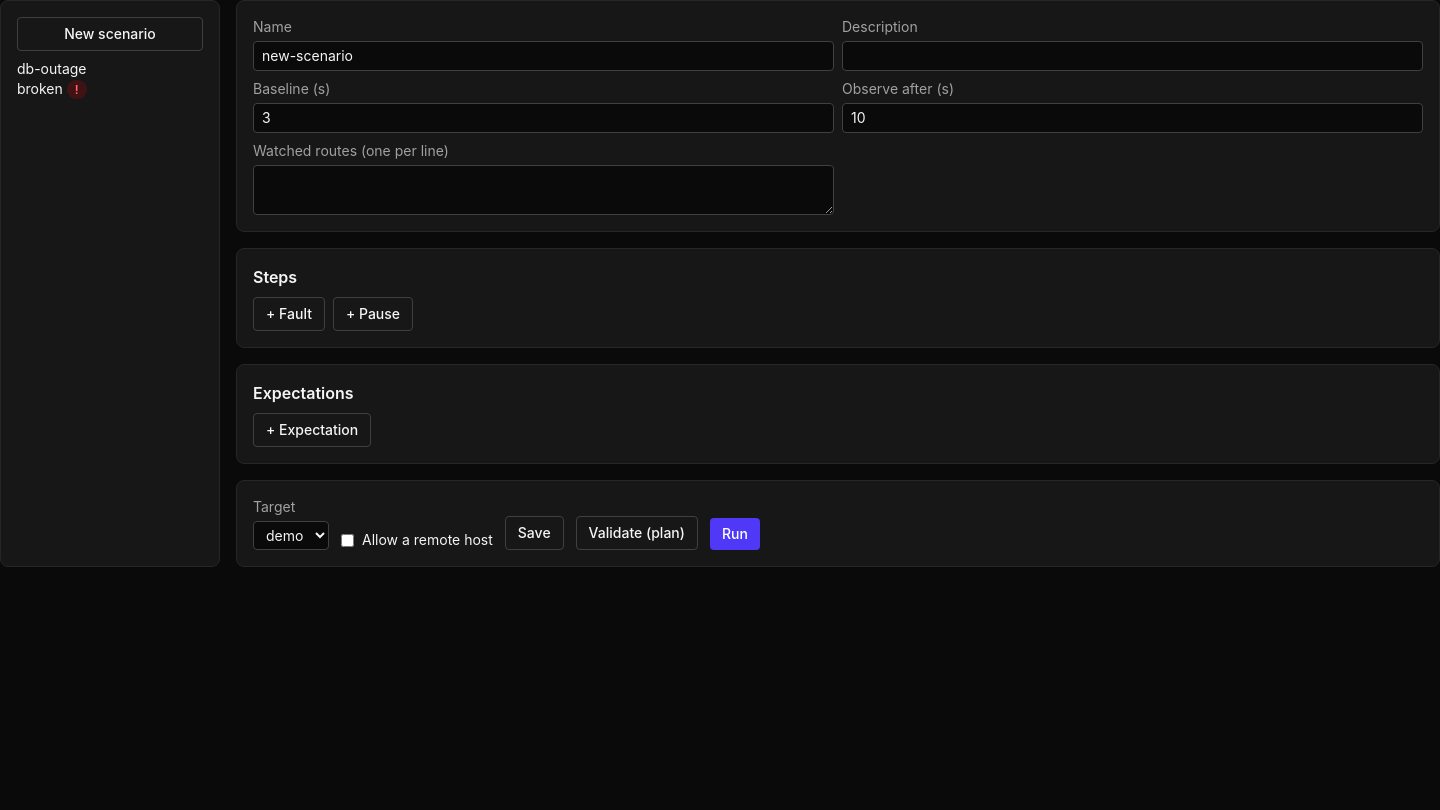
Test: ScenarioEditor › loads saved scenarios and shows guard refusals from the server
The width and height of the screenshot is (1440, 810).
Click the button "db-outage" at point(52, 69), box [17, 59, 86, 79]
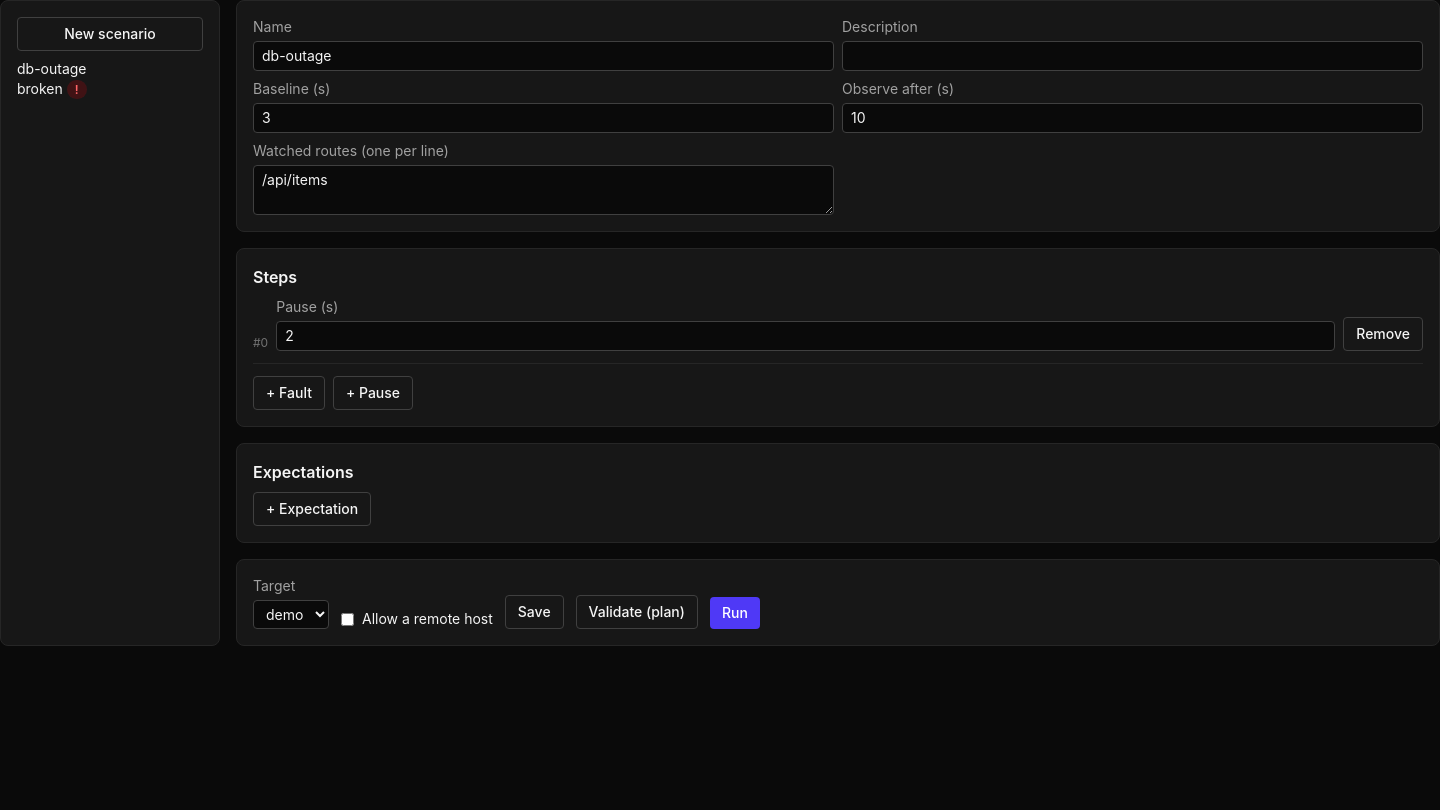
expect the button "broken !" is disabled: met, box [17, 79, 87, 99]
expect the field labelled "Name" holds "db-outage": met, box [253, 41, 834, 71]
expect the number field labelled "Pause (s)" holds "2": met, box [276, 321, 1335, 351]
Click the button "Run" at point(735, 613), box [710, 597, 760, 629]
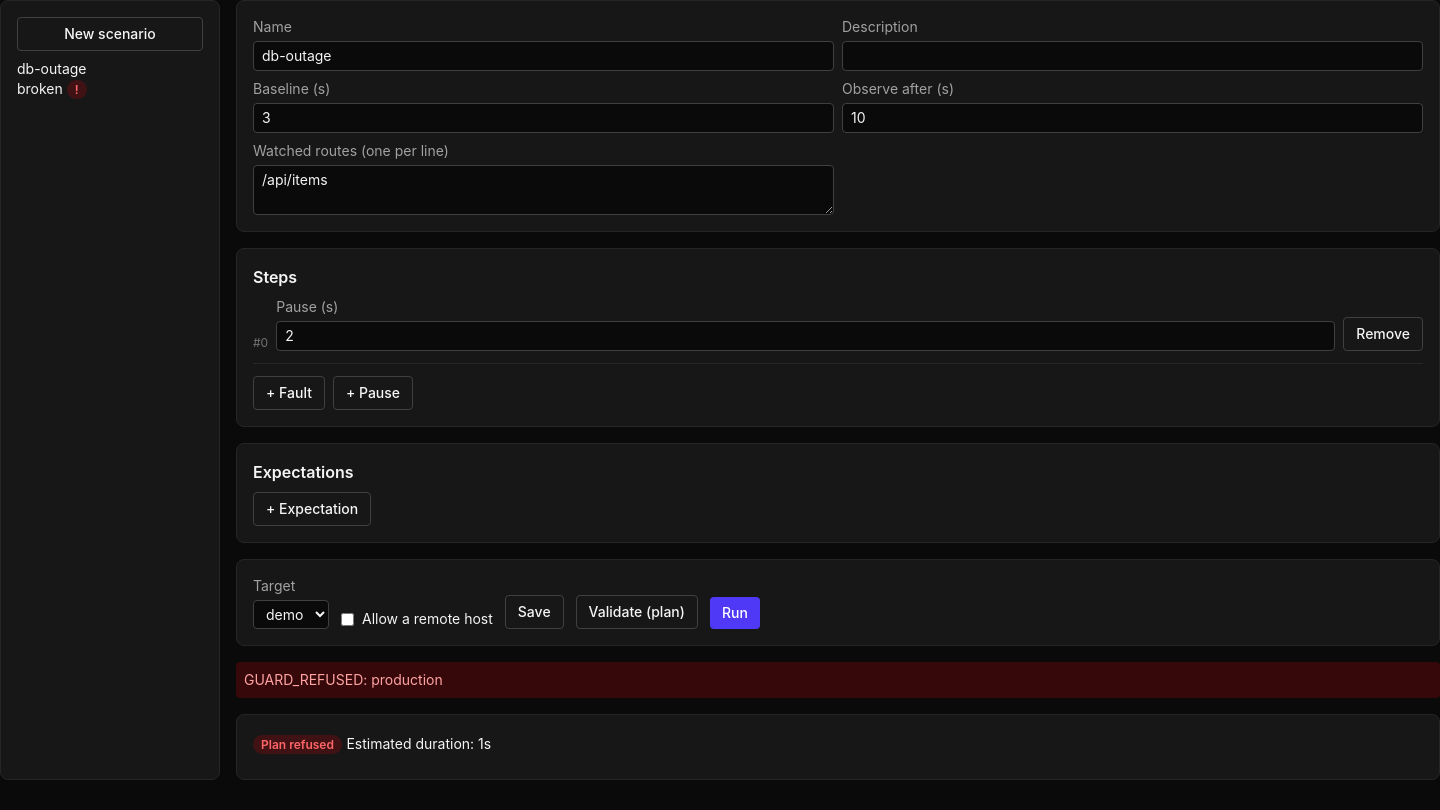
expect the message reads "GUARD_REFUSED: production": met, box [236, 662, 1439, 698]
expect the text "Plan refused" is shown: met, box [253, 735, 342, 754]
Click the button "Validate (plan)" at point(637, 612), box [576, 595, 698, 629]
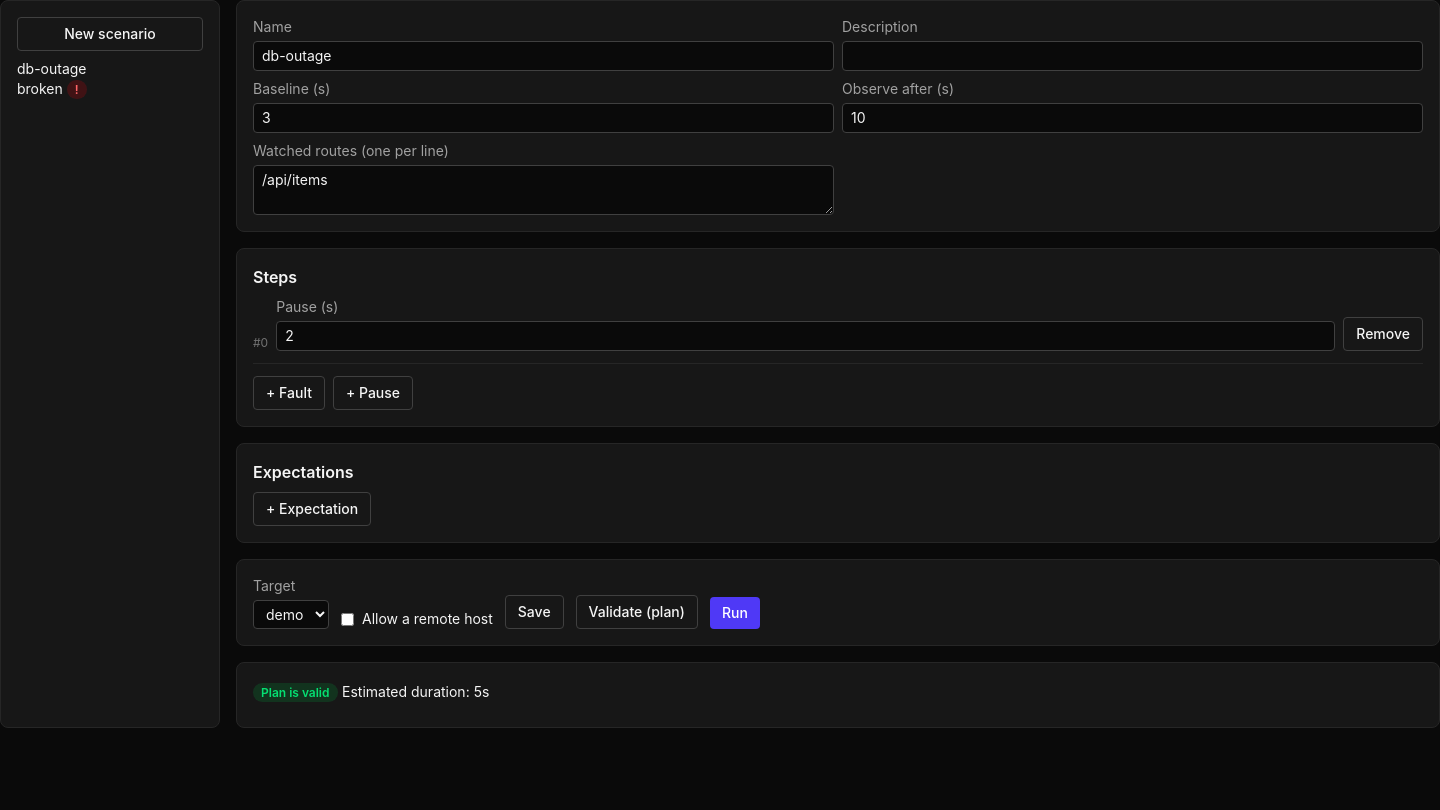
expect the text "Plan is valid" is shown: met, box [253, 683, 338, 702]
Click the button "New scenario" at point(110, 34), box [17, 17, 203, 51]
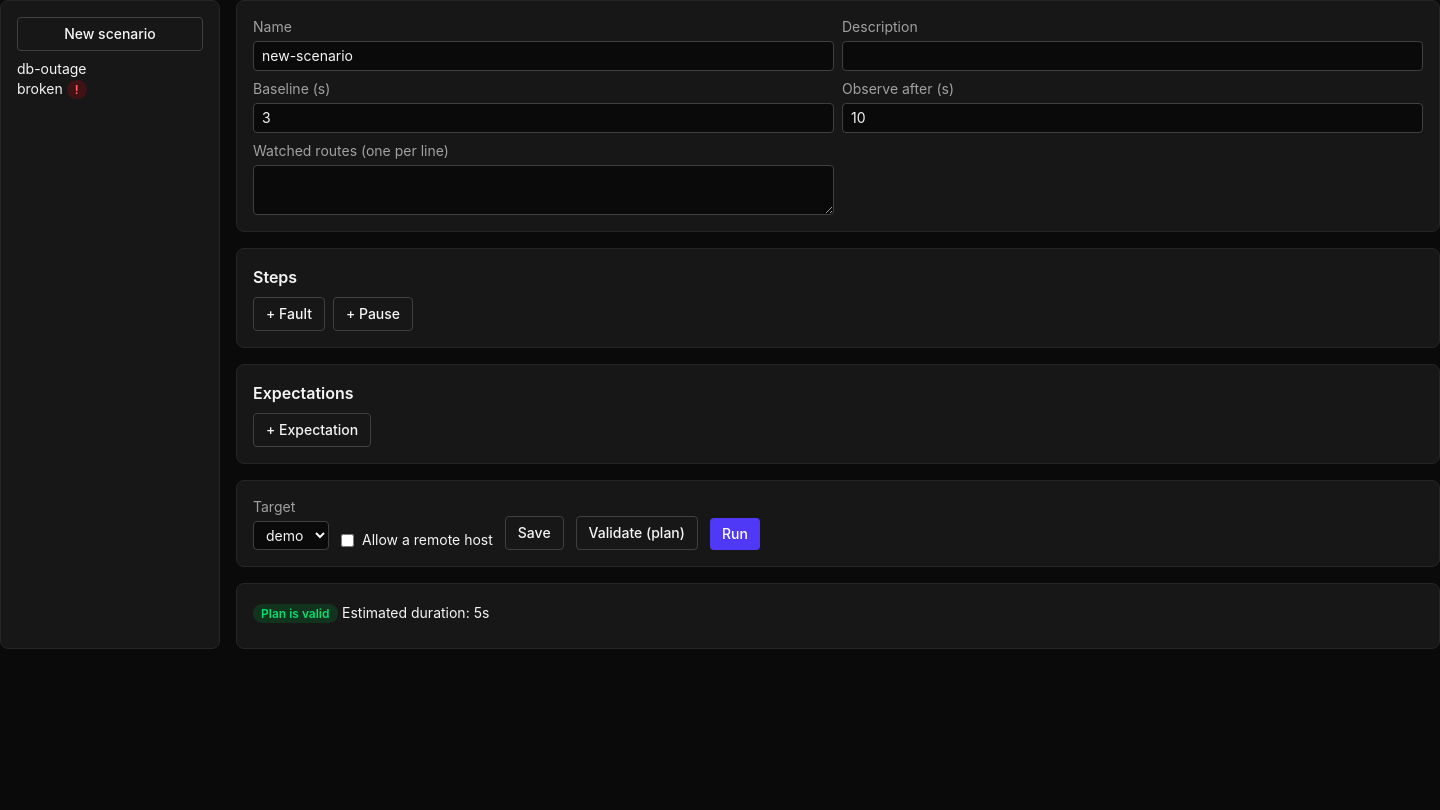
expect the field labelled "Name" holds "new-scenario": met, box [253, 41, 834, 71]
